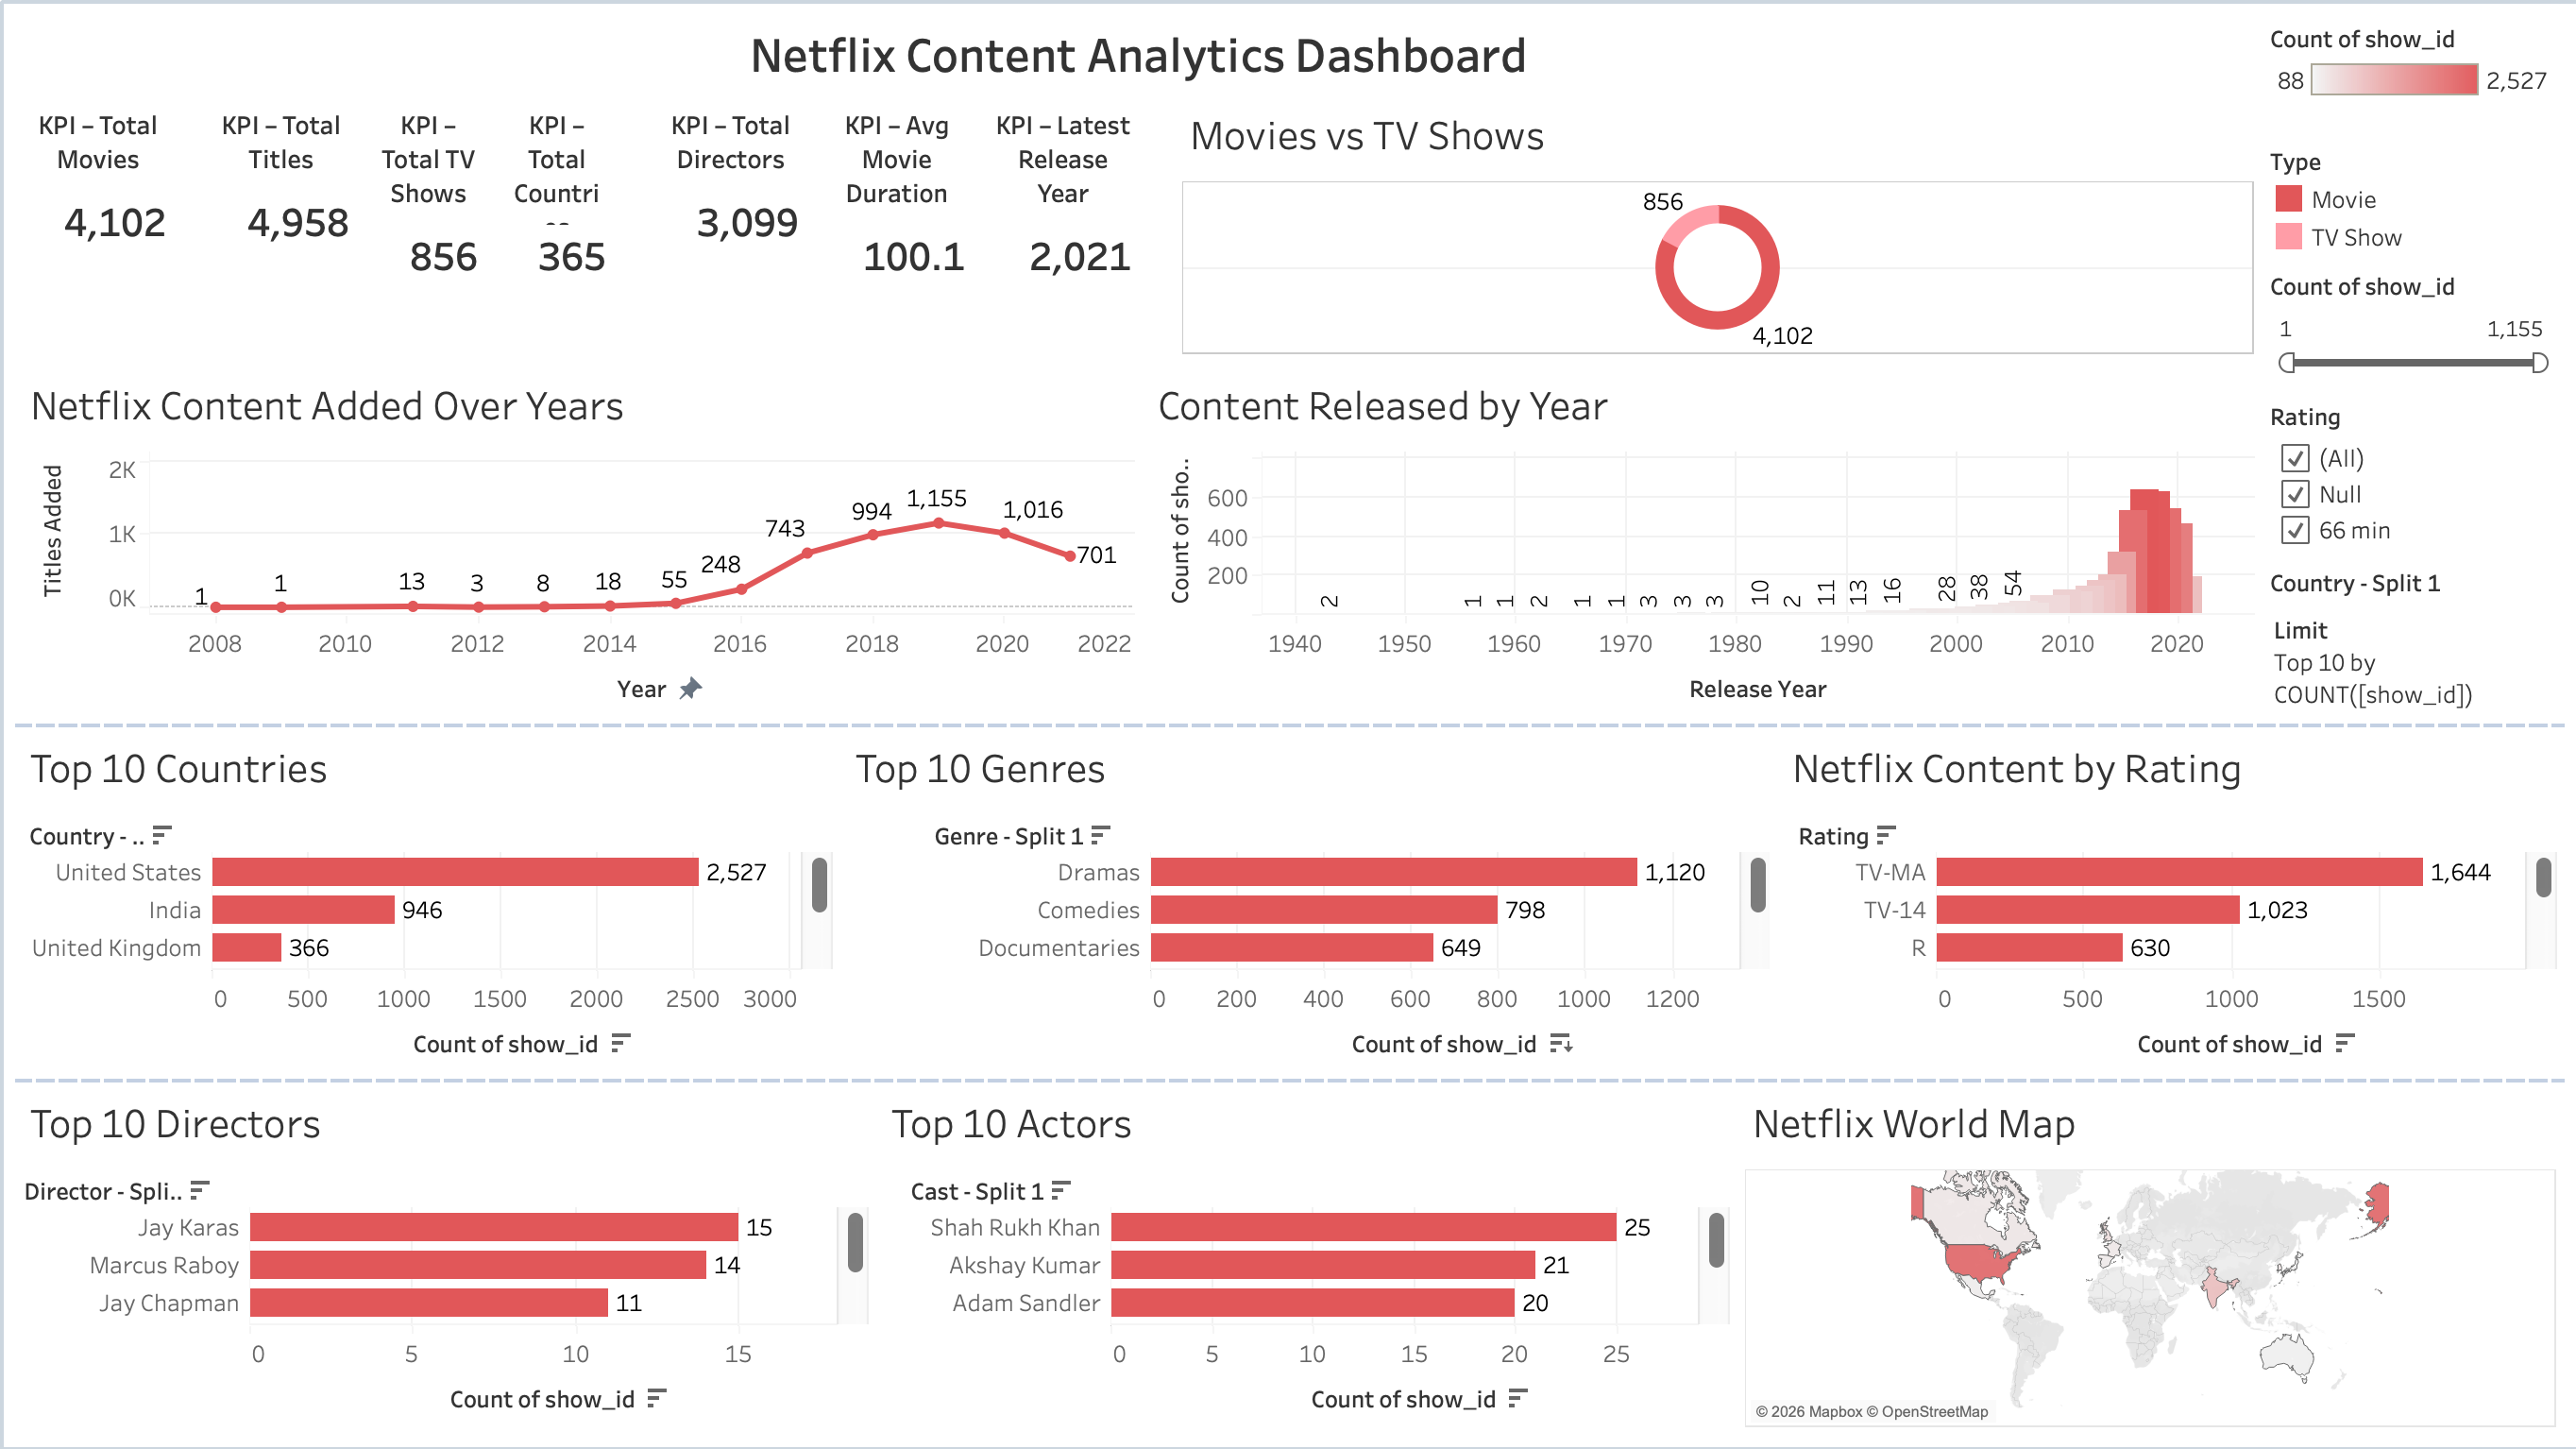

What the dashboard file says about the page in this screenshot:
{"tool":"tableau","page":{"name":"Netflix Content Analytics Dashboard","canvas":[1366,768],"ordinal":0},"visuals":[{"type":"title","box":[8,8,1190,41]},{"type":"legend","title":"Netflix World Map","param":"[federated.1sylc210x8gza21e7zwh31p297k6].[cnt:show_id:qk]","box":[1198,8,160,65]},{"type":"worksheet","title":"KPI – Total Movies","mark":"Automatic","box":[8,49,97,143]},{"type":"worksheet","title":"KPI – Total Titles","mark":"Automatic","box":[105,49,88,143]},{"type":"worksheet","title":"KPI – Total TV Shows","mark":"Automatic","box":[193,49,68,143]},{"type":"worksheet","title":"KPI – Total Countries","mark":"Automatic","box":[261,49,82,143]},{"type":"worksheet","title":"KPI – Total Directors","mark":"Automatic","box":[343,49,88,143]},{"type":"worksheet","title":"KPI – Avg Movie Duration","mark":"Automatic","box":[431,49,88,143]},{"type":"worksheet","title":"KPI – Latest Release Year","mark":"Automatic","box":[519,49,103,143]},{"type":"worksheet","title":"Movies vs TV Shows","mark":"Pie","rows":["Calculation_0079600860528643","Calculation_0079600860528643"],"box":[622,49,575.9,143]},{"type":"legend","title":"Movies vs TV Shows","param":"[federated.1sylc210x8gza21e7zwh31p297k6].[none:type:nk]","box":[1198,73,160,66]},{"type":"filter","title":"Netflix Content Added Over Years","param":"[federated.1sylc210x8gza21e7zwh31p297k6].[cnt:show_id:qk]","box":[1198,139,160,69]},{"type":"worksheet","title":"Netflix Content Added Over Years","mark":"Line","rows":["show_id"],"cols":["date_added"],"box":[8,192,597,192]},{"type":"worksheet","title":"Content Released by Year","mark":"Bar","rows":["show_id"],"cols":["release_year"],"box":[605,192,593,192]},{"type":"filter","title":"Netflix Content by Rating","param":"[federated.1sylc210x8gza21e7zwh31p297k6].[none:rating:nk]","box":[1198,208,160,88]},{"type":"filter","title":"Netflix World Map","param":"[federated.1sylc210x8gza21e7zwh31p297k6].[none:country - Split 1:nk]","box":[1198,296,160,88]},{"type":"worksheet","title":"Top 10 Countries","mark":"Bar","rows":["country - Split 1"],"cols":["show_id"],"box":[8,384,436.7,188]},{"type":"worksheet","title":"Top 10 Genres","mark":"Bar","rows":["Calculation_0079600869224453"],"cols":["show_id"],"box":[444.7,384,496.7,188]},{"type":"worksheet","title":"Netflix Content by Rating","mark":"Automatic","rows":["rating"],"cols":["show_id"],"box":[941.3,384,416.7,188]},{"type":"worksheet","title":"Top 10 Directors","mark":"Bar","rows":["Calculation_0079600898715654"],"cols":["show_id"],"box":[8,572,456,188]},{"type":"worksheet","title":"Top 10 Actors","mark":"Bar","rows":["Calculation_0079600899817479"],"cols":["show_id"],"box":[464,572,456,188]},{"type":"worksheet","title":"Netflix World Map","mark":"Automatic","box":[920,572,438,188]}]}

Visuals, with their boxes in screenshot pixels (x1, y1, x2, y2), scaled from the page's 1366x768 canvas onto the 2576x1449 screenshot:
title: crop(15, 15, 2259, 93)
"Netflix World Map" legend: crop(2259, 15, 2561, 138)
"KPI – Total Movies" worksheet: crop(15, 93, 198, 363)
"KPI – Total Titles" worksheet: crop(198, 93, 364, 363)
"KPI – Total TV Shows" worksheet: crop(364, 93, 492, 363)
"KPI – Total Countries" worksheet: crop(492, 93, 647, 363)
"KPI – Total Directors" worksheet: crop(647, 93, 813, 363)
"KPI – Avg Movie Duration" worksheet: crop(813, 93, 978, 363)
"KPI – Latest Release Year" worksheet: crop(978, 93, 1173, 363)
"Movies vs TV Shows" worksheet (Pie marks): crop(1173, 93, 2259, 363)
"Movies vs TV Shows" legend: crop(2259, 138, 2561, 263)
"Netflix Content Added Over Years" filter: crop(2259, 263, 2561, 392)
"Netflix Content Added Over Years" worksheet (Line marks): crop(15, 363, 1141, 724)
"Content Released by Year" worksheet (Bar marks): crop(1141, 363, 2259, 724)
"Netflix Content by Rating" filter: crop(2259, 392, 2561, 558)
"Netflix World Map" filter: crop(2259, 558, 2561, 724)
"Top 10 Countries" worksheet (Bar marks): crop(15, 724, 839, 1080)
"Top 10 Genres" worksheet (Bar marks): crop(839, 724, 1775, 1080)
"Netflix Content by Rating" worksheet: crop(1775, 724, 2561, 1080)
"Top 10 Directors" worksheet (Bar marks): crop(15, 1080, 875, 1434)
"Top 10 Actors" worksheet (Bar marks): crop(875, 1080, 1735, 1434)
"Netflix World Map" worksheet: crop(1735, 1080, 2561, 1434)
